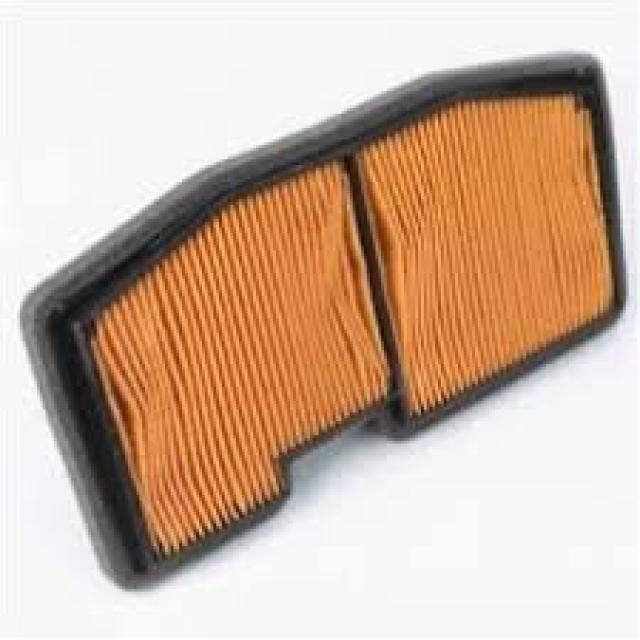air_filter: (0, 54, 627, 596)
